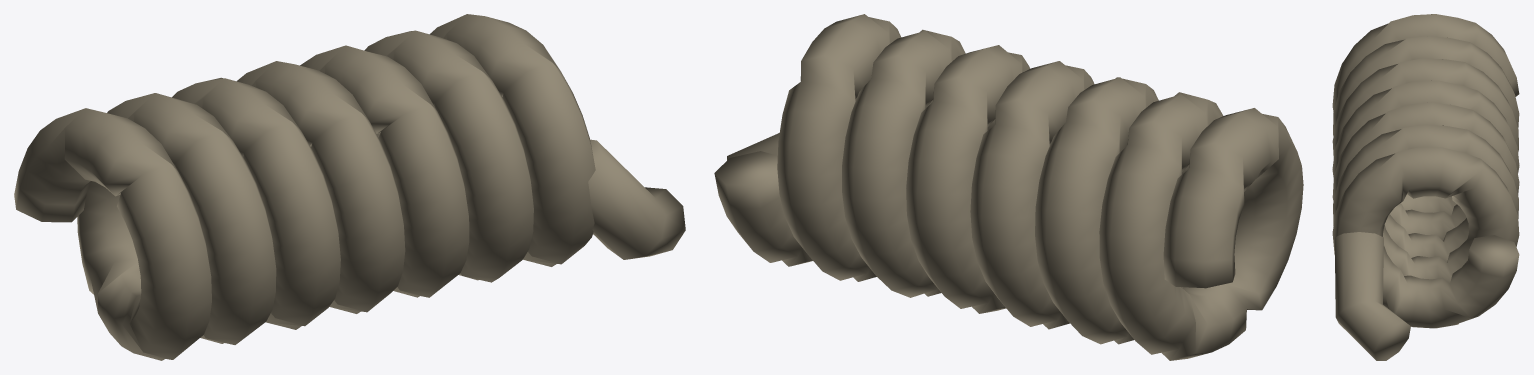
File: waxed_wool.glb
3 views of the same model, side by side, from view 1: azimuth 30°, elevation 25°; view 2: azimuth 150°, elevation 25°; view 3: azimuth 270°, elevation 25° (orthographic). The views are drawn at different scales.
Parts seen in each view (by area): view 1: waxed_wool; view 2: waxed_wool; view 3: waxed_wool.
Part boxes in pixels (x1,y1,x2,y2): waxed_wool: (14,14,685,360); waxed_wool: (714,14,1303,360); waxed_wool: (1332,14,1519,360).
Bounding box in the file's own units: 0.0286 × 0.0114 × 0.0112.
